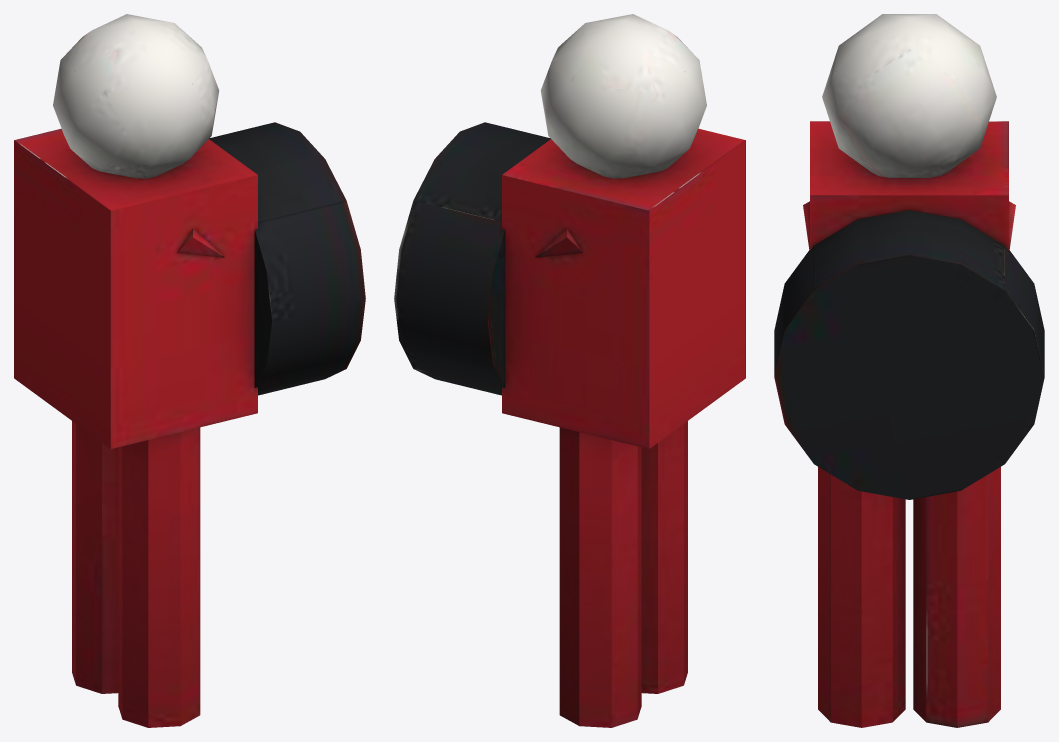
File: pit_crew.glb
3 views of the same model, side by side, from view 1: azimuth 30°, elevation 25°; view 2: azimuth 150°, elevation 25°; view 3: azimuth 270°, elevation 25° (orthographic). The views are drawn at different scales.
Visible parts, largest first — view 1: pit_crew; view 2: pit_crew; view 3: pit_crew.
Part boxes in pixels (x1,y1,x2,y2): pit_crew: (14, 14, 365, 727); pit_crew: (394, 14, 745, 727); pit_crew: (774, 14, 1044, 727).
Size of the model in its own units: 0.71 by 1.92 by 0.68.
Materials: 1 (1 with a texture image).
